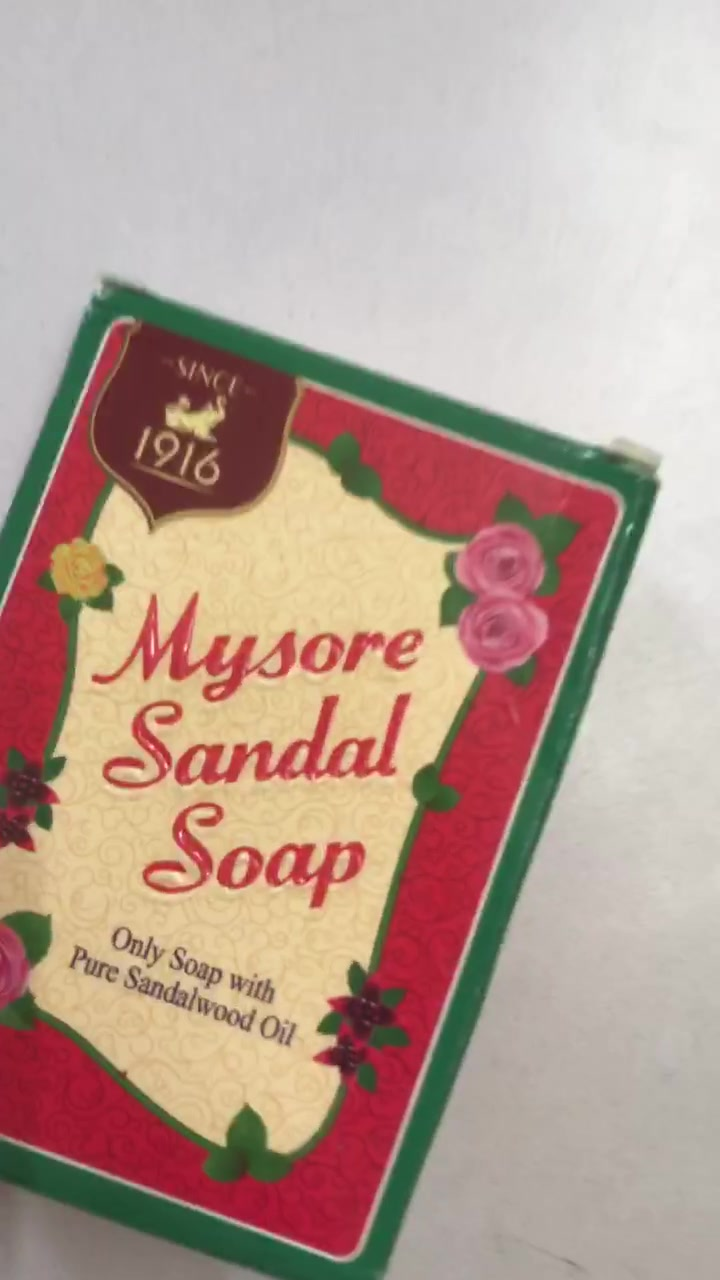mysore sandal soap: (1, 274, 623, 1267)
